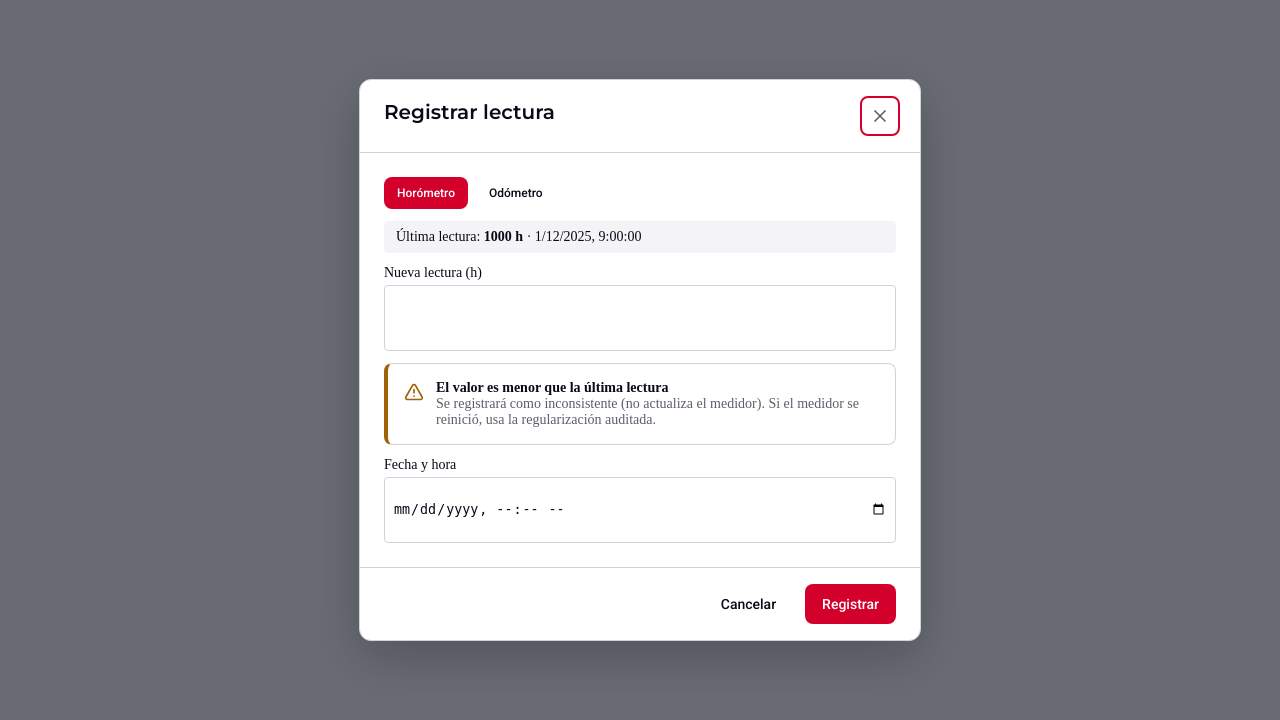
Test: Captura rápida de lectura › offline: notifica que la lectura quedó en cola (sin segunda cola)
This screenshot has width=1280, height=720.
Type "1185" into the field labelled "Nueva lectura (h)" at (640, 318), box [384, 285, 896, 351]
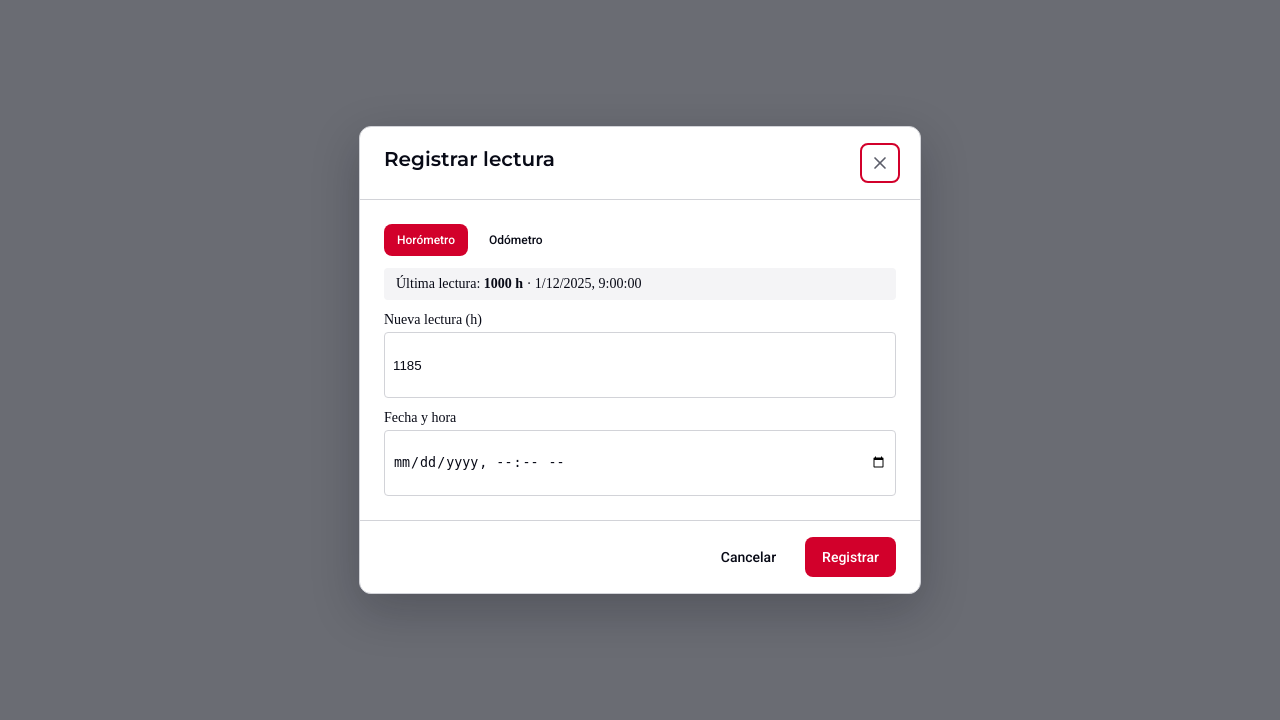
Type "2026-01-01T08:00" into the field labelled "Fecha y hora" at (640, 463), box [384, 430, 896, 496]
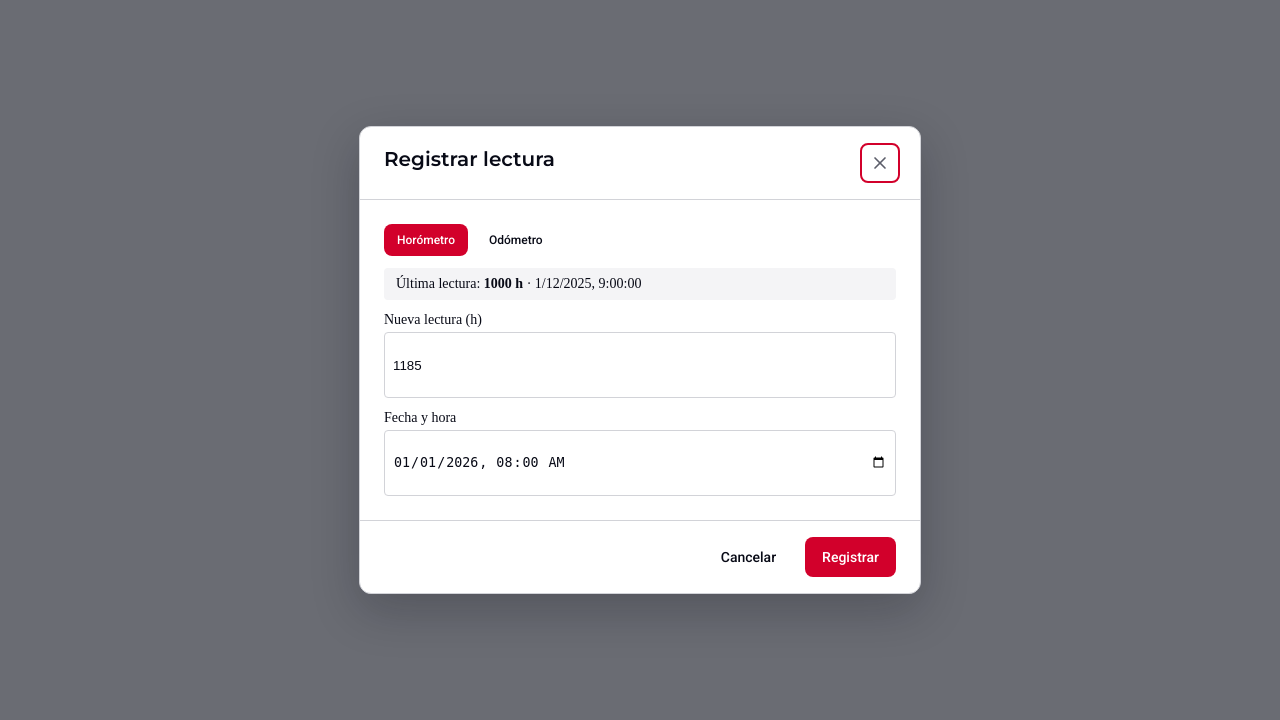
Click the button "Registrar" at (851, 557), box [805, 537, 896, 577]
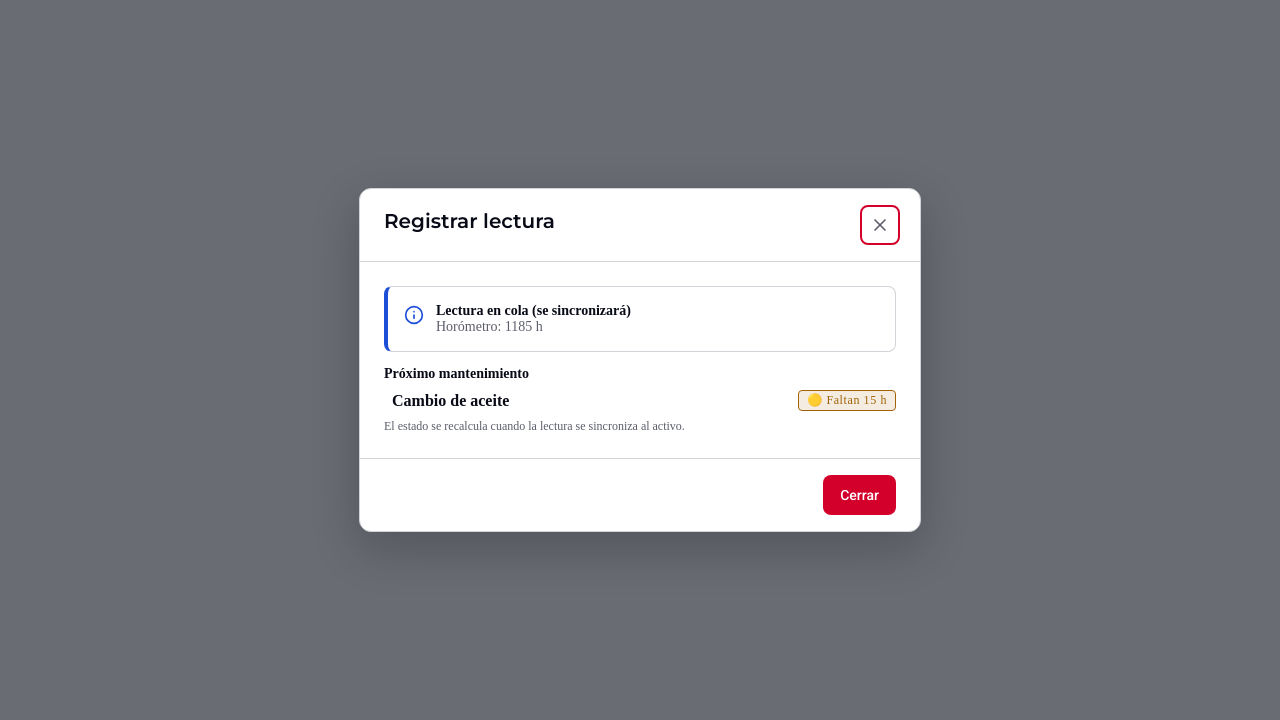
Expected: the element with test id "lectura-feedback" is shown, [384, 286, 896, 434]
Expected: the text "Lectura en cola (se sincronizará)" is shown, [436, 303, 631, 318]
